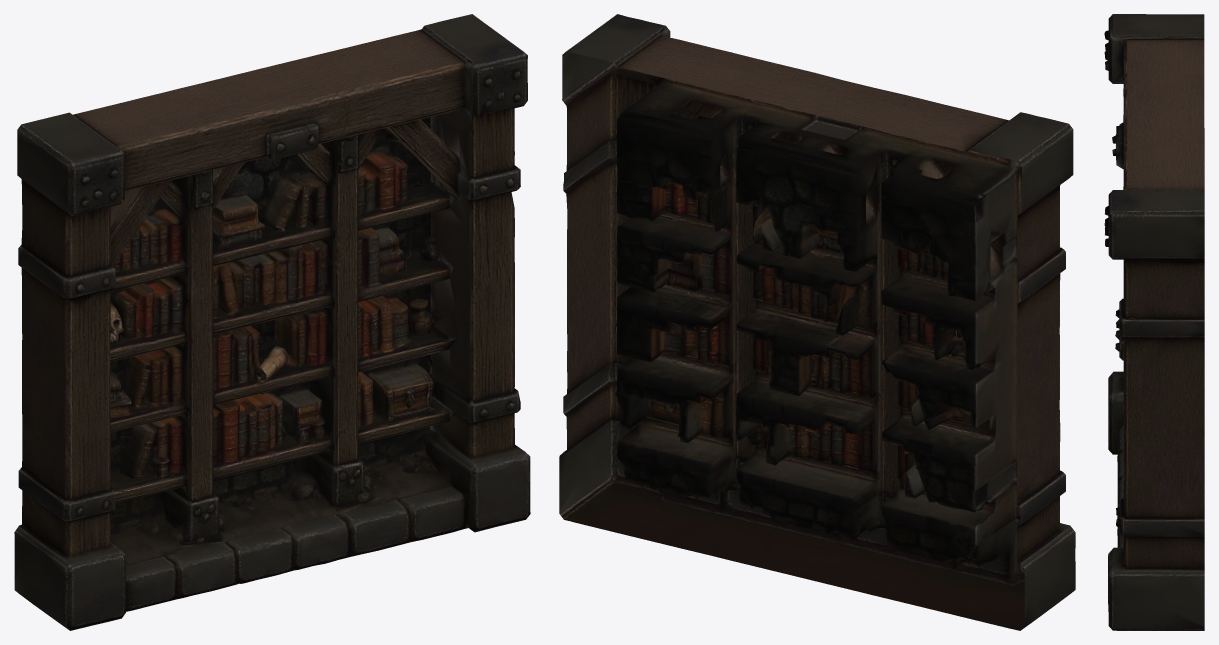
The model's file is Wall_Library_Shelves.fbx.
3 renders of one model, left to right at view 1: azimuth 30°, elevation 25°; view 2: azimuth 150°, elevation 25°; view 3: azimuth 270°, elevation 25°, orthographic. The views are drawn at different scales.
Visible parts, largest first — view 1: Wall_Library_Shelves; view 2: Wall_Library_Shelves; view 3: Wall_Library_Shelves.
Part boxes in pixels (x1,y1,x2,y2): Wall_Library_Shelves: [14, 14, 530, 630]; Wall_Library_Shelves: [559, 14, 1075, 630]; Wall_Library_Shelves: [1104, 14, 1204, 630].
Bounding box in the file's own units: 315 × 304 × 65.85.
Materials: 1 (1 with a texture image).
